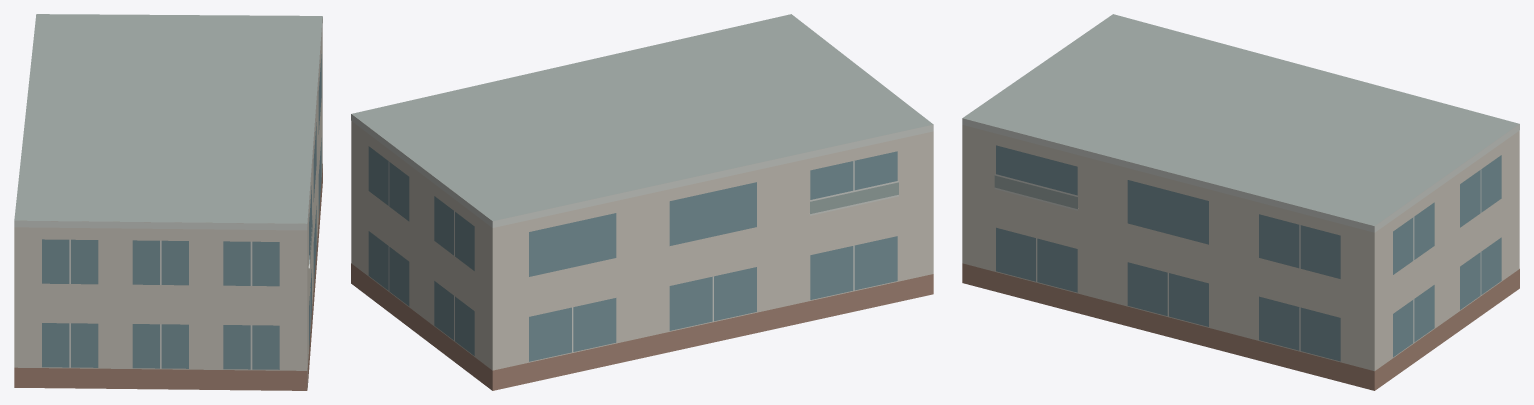
File: survey-upis-32666362.glb
The picture shows the model from 3 angles, left to right: view 1: azimuth 30°, elevation 25°; view 2: azimuth 150°, elevation 25°; view 3: azimuth 270°, elevation 25°; orthographic projection. The views are drawn at different scales.
Visible parts, largest first — view 1: survey-upis-32666362.tmp; view 2: survey-upis-32666362.tmp; view 3: survey-upis-32666362.tmp.
Part boxes in pixels (x1=…): survey-upis-32666362.tmp: x1=14, y1=14, x2=322, y2=390; survey-upis-32666362.tmp: x1=351, y1=14, x2=933, y2=390; survey-upis-32666362.tmp: x1=962, y1=14, x2=1519, y2=390.
Bounding box in the file's own units: 16.86 × 6.1 × 18.72.
